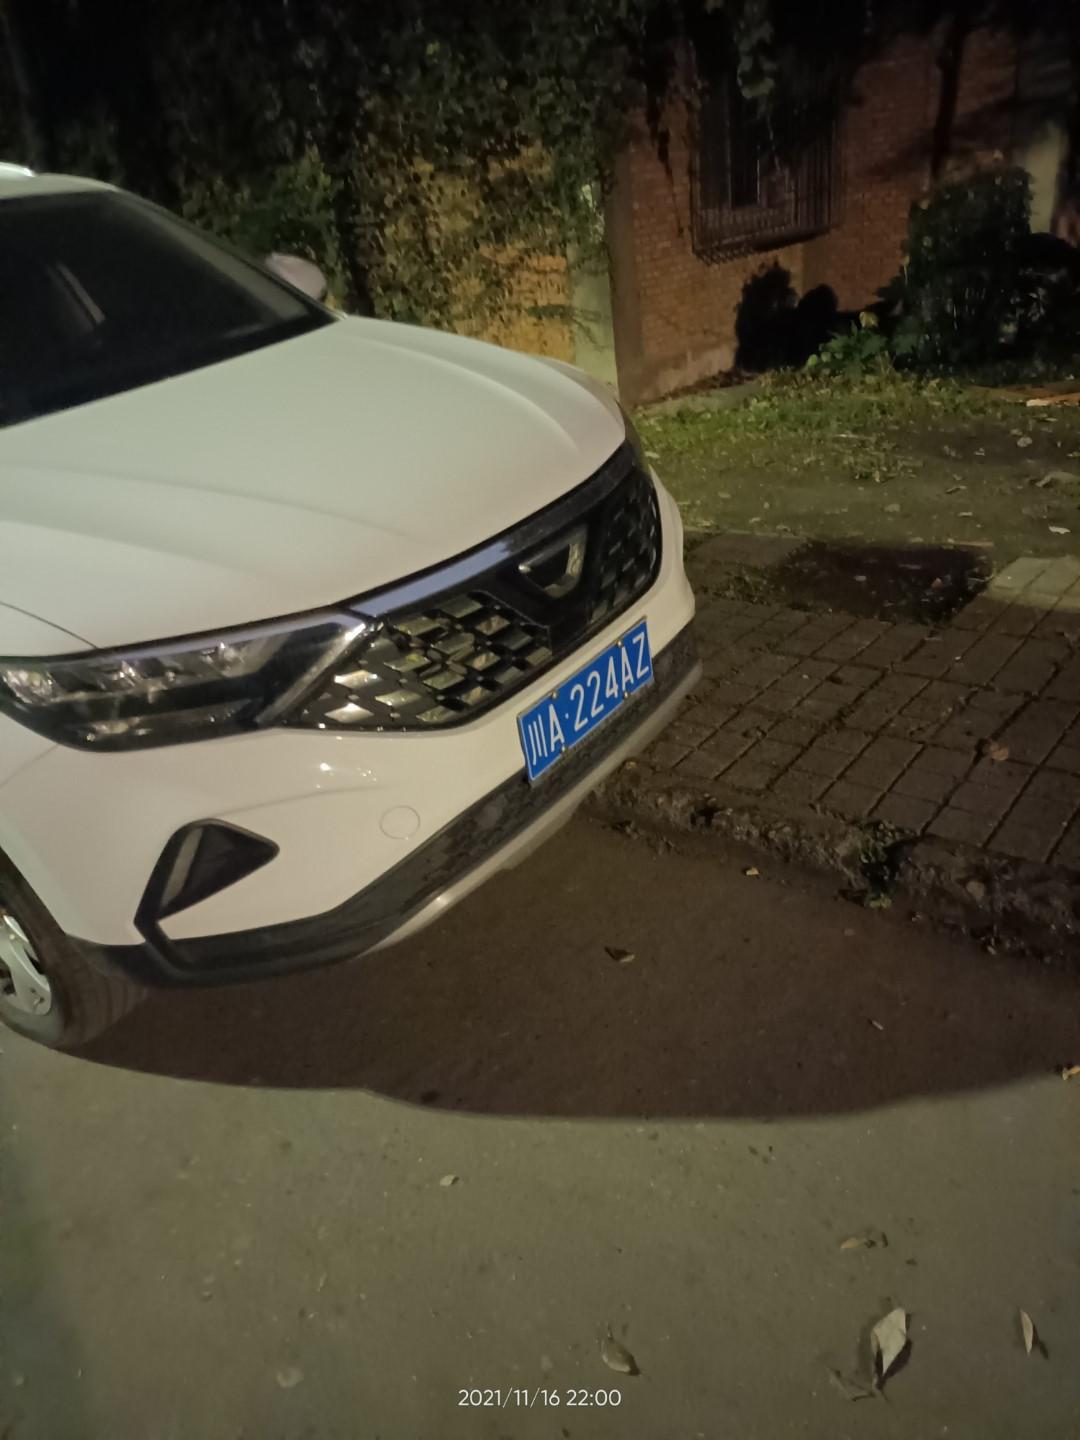plate: (518, 615, 653, 779)
